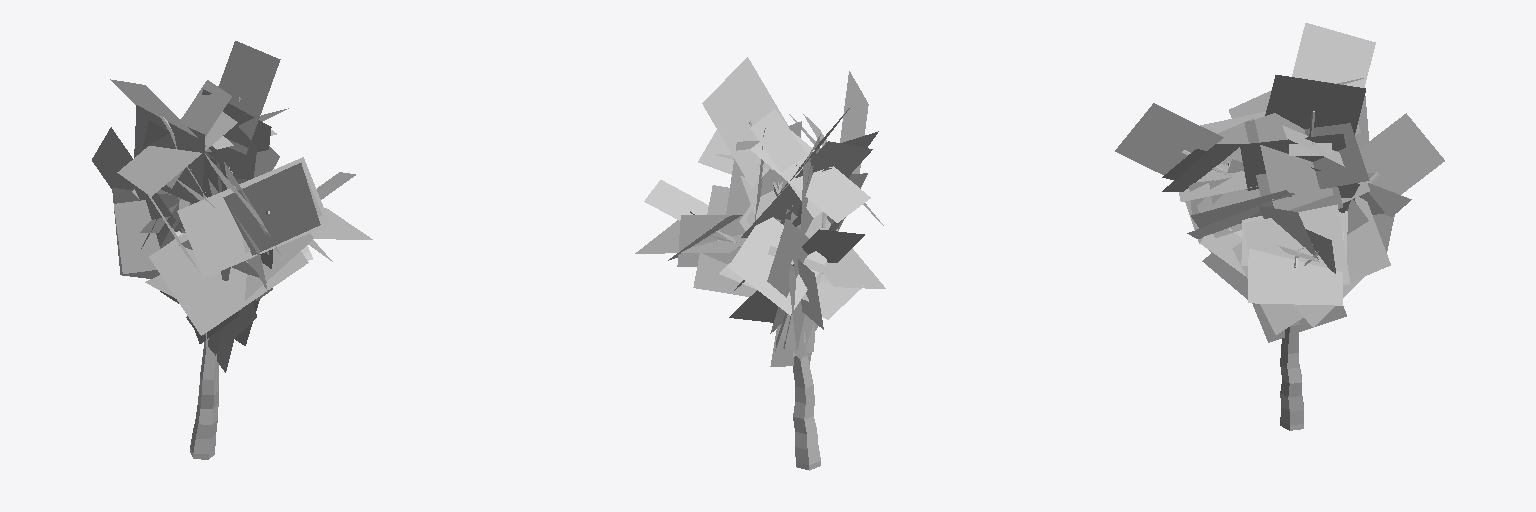
The model's file is tree4.obj.
The picture shows the model from 3 angles: view 1: azimuth 30°, elevation 25°; view 2: azimuth 150°, elevation 25°; view 3: azimuth 270°, elevation 25°; orthographic projection.
Bounding box in the file's own units: 8.11 × 14.34 × 11.17.